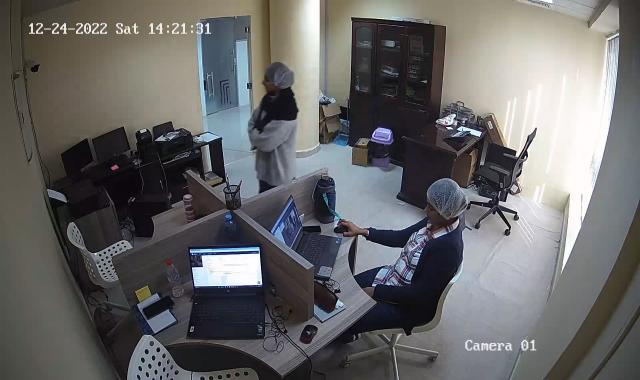hairnet: (422, 178, 467, 224), (263, 61, 292, 95)
